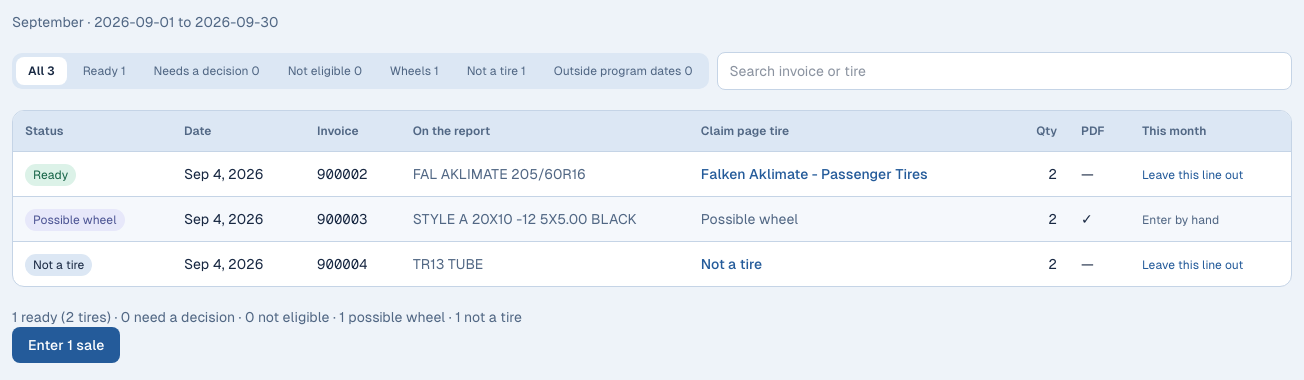
Test: shows possible wheels in their own filter with manual guidance and no tire picker
The width and height of the screenshot is (1304, 380).
Expected: the button "Enter 1 sale" is shown, [12,327,120,363]
Expected: the tab "All 3" is shown, [16,57,67,85]
Click the tab "Wheels 1".
click(414, 71)  # box [378,57,451,85]
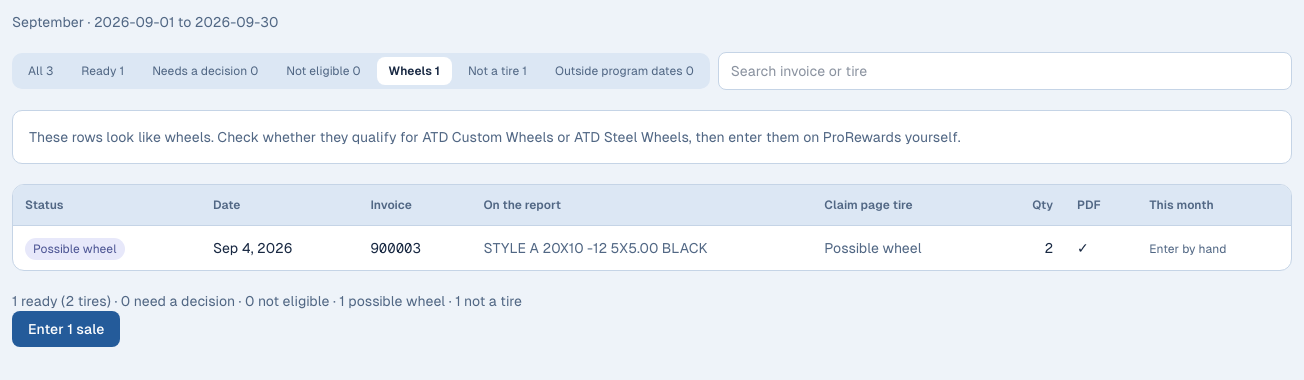
Expected: the text "900002" is gone
Expected: the text "900004" is gone
Expected: the text "Check whether they qualify for ATD Custom Wheels" is shown, [29,129,961,145]
Click the tab "Not a tire 1".
click(497, 71)  # box [456,57,539,85]
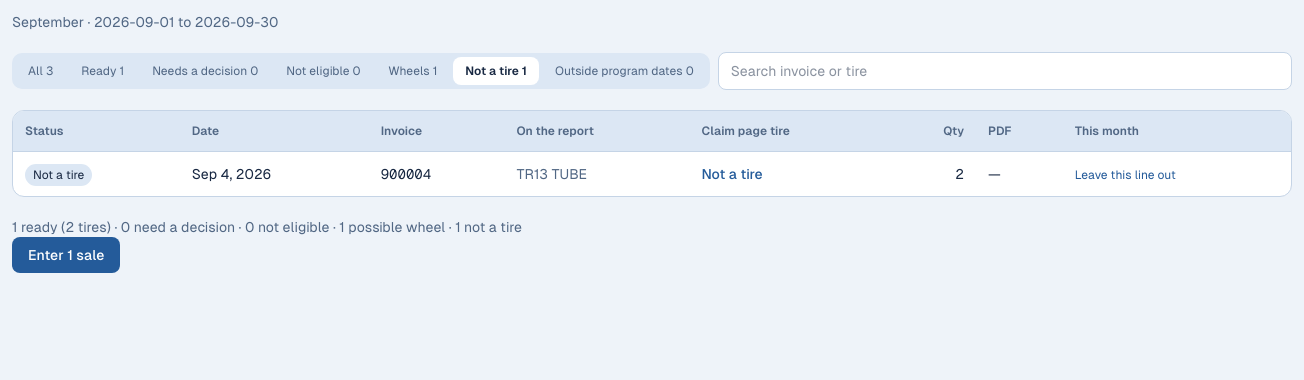
Expected: the text "900004" is shown, [369,152,504,196]
Expected: the text "900003" is gone
Click the tab "All 3".
click(41, 71)  # box [16,57,65,85]
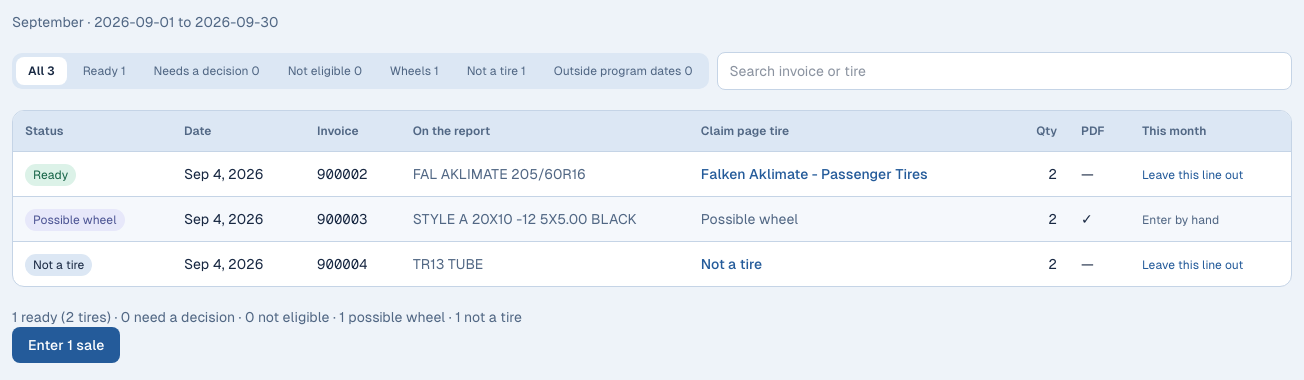
Expected: the text "900003" is shown, [305,196,401,242]
Type "900003" into the field with placeholder "Search invoice or tire".
click(1004, 71); type("900003")  # box [716,52,1292,90]
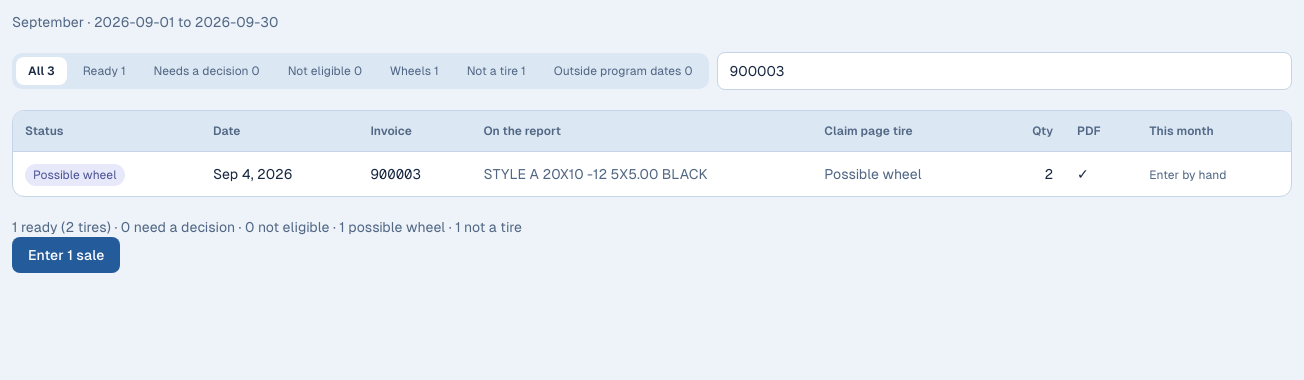
Expected: the text "900003" is shown, [358,152,472,196]
Expected: the text "900002" is gone
